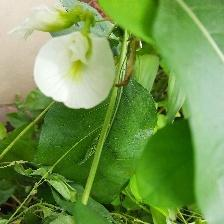shankupushpam: (32, 30, 119, 113)
